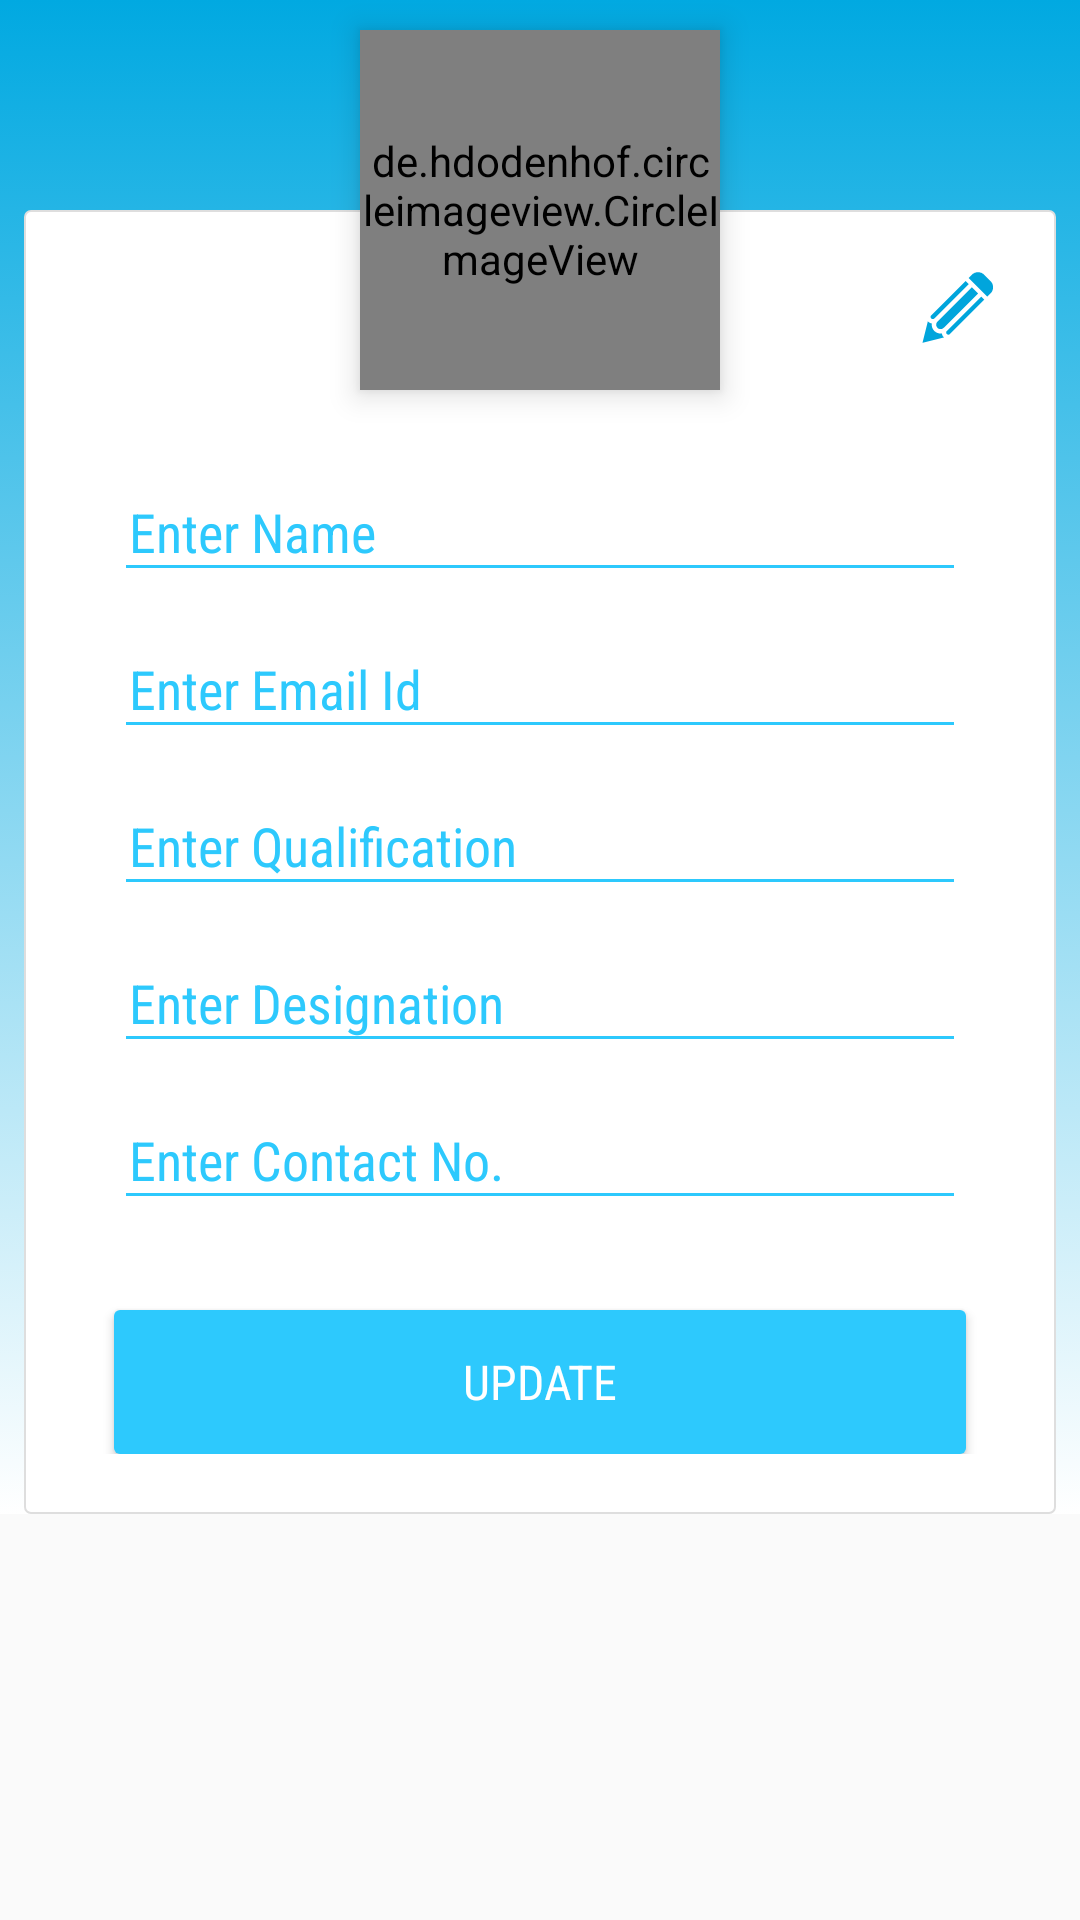

Point at icon controls on the screen. Image size 1080w x 1920h, points as (x,y).
edit pencile: (957,307)
